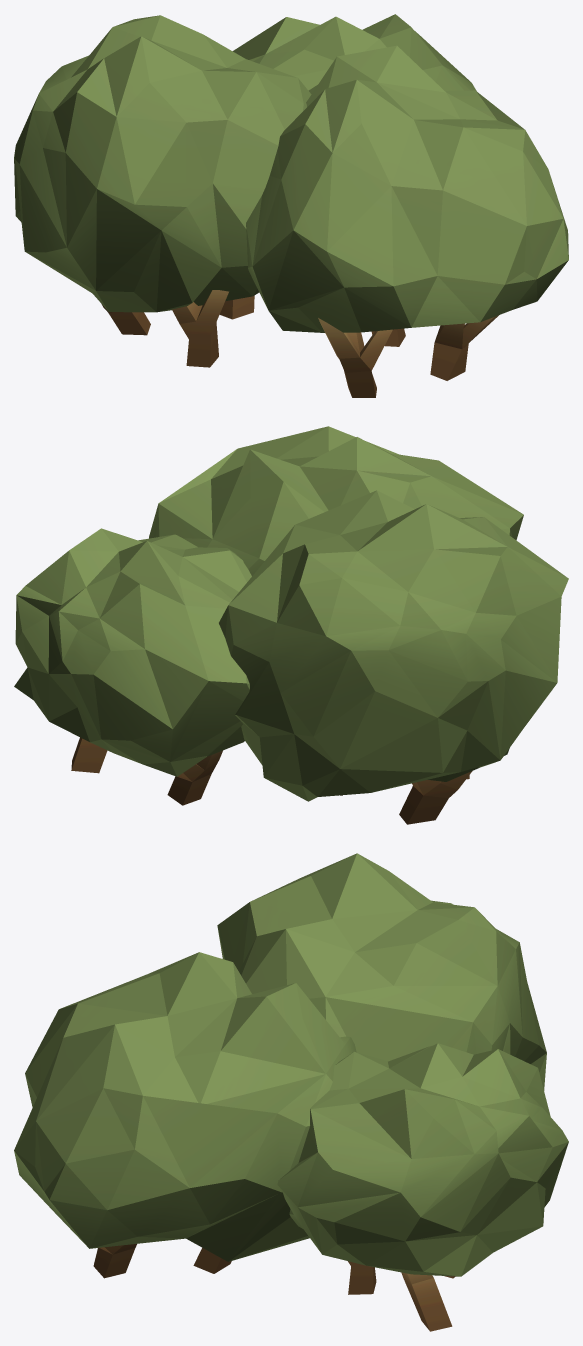
File: pack01_foliage_13.fbx
3 views of the same model, one above another, from view 1: azimuth 30°, elevation 25°; view 2: azimuth 150°, elevation 25°; view 3: azimuth 270°, elevation 25° (orthographic). The views are drawn at different scales.
Parts seen in each view (by area): view 1: Bush_group_big; view 2: Bush_group_big; view 3: Bush_group_big.
Part boxes in pixels (x1,y1,x2,y2): Bush_group_big: (14,14,568,397); Bush_group_big: (14,426,568,824); Bush_group_big: (14,853,568,1331).
Bounding box in the file's own units: 684 × 425 × 672.
Materials: 1 (1 with a texture image).
